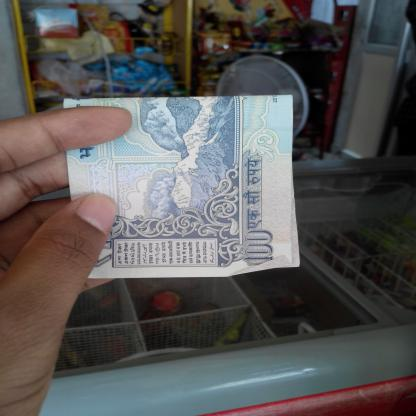Old100Back: (63, 94, 299, 279)
